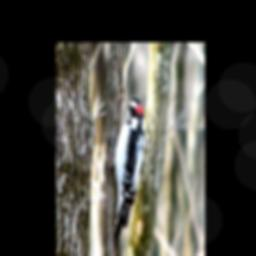Woodpecker: (109, 98, 147, 251)
